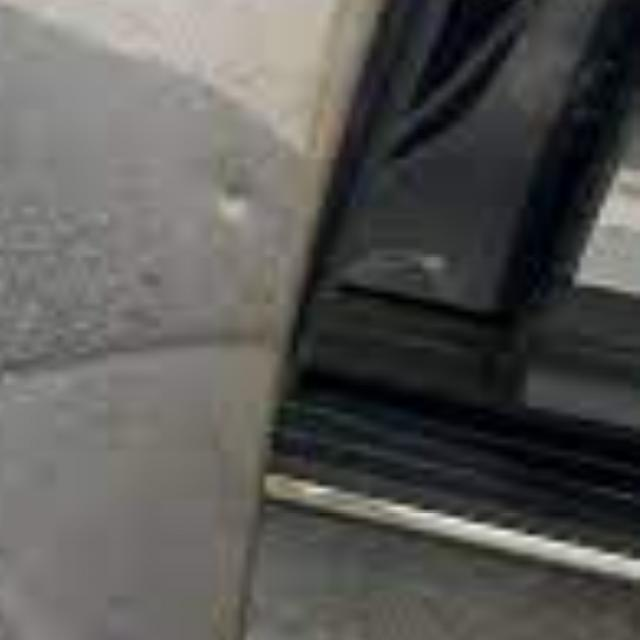dents: (168, 136, 305, 237)
